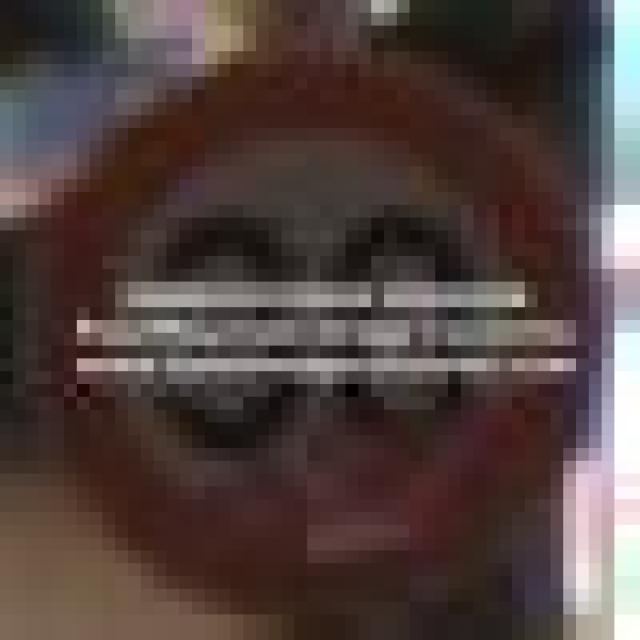SPEED_LIMIT_30: (39, 38, 602, 614)
